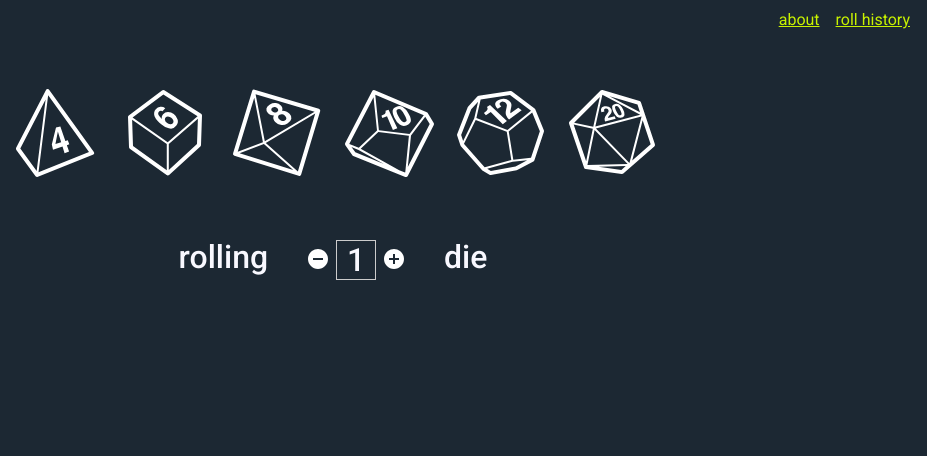
Test: <Roller /> › displays each individual roll
The image size is (927, 456).
What coordinates should you click on to do the following:
click the button titled "increment"
I would click on:
 (394, 260)
Its box is [376,240,412,280].
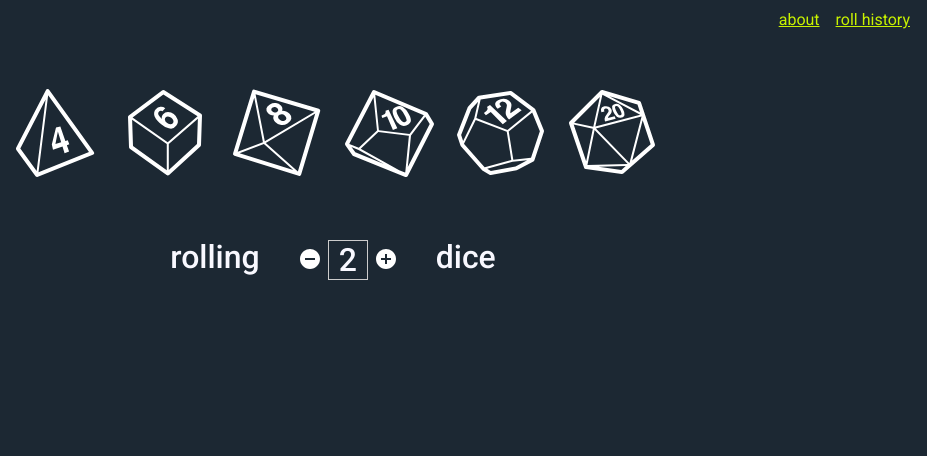
What coordinates should you click on to do the following:
click the 6th button with alt text "d20"
I would click on:
 (613, 136)
Its box is [557,82,669,191].
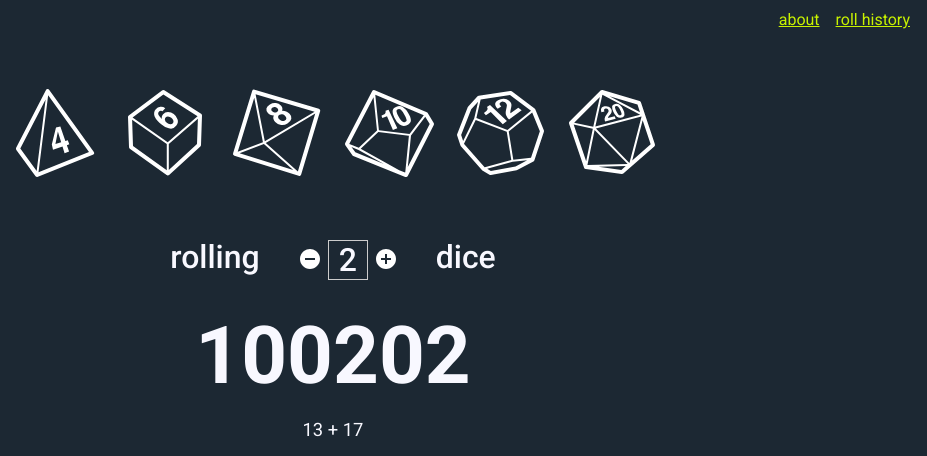
Now the text "13 + 17" is shown, box [302,419,363,440]
